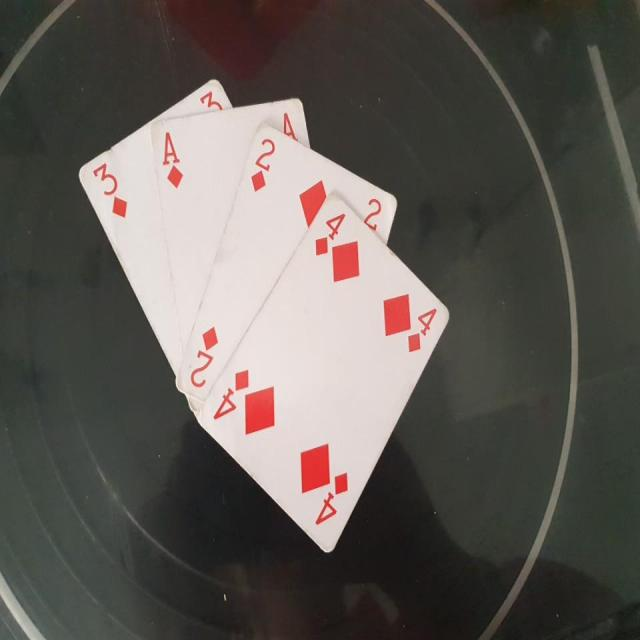2 Diamonds: (167, 125, 400, 402)
3 Diamonds: (76, 76, 233, 370)
4 Diamonds: (196, 188, 453, 554)
A Diamonds: (154, 90, 316, 297)
